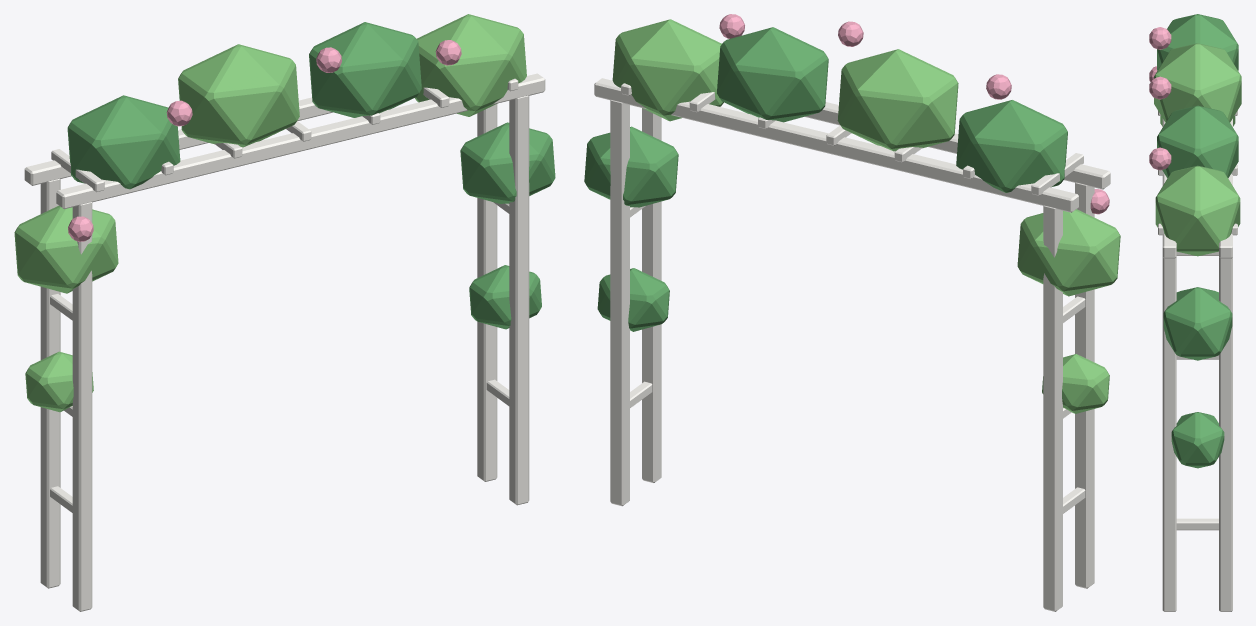
3 views of the same model, side by side, from view 1: azimuth 30°, elevation 25°; view 2: azimuth 150°, elevation 25°; view 3: azimuth 270°, elevation 25° (orthographic). The views are drawn at different scales.
Visible parts, largest first — view 1: Arch; view 2: Arch; view 3: Arch.
Boxes of the visible parts, x1,y1,x2,y2 form: Arch: (14,14,555,611); Arch: (584,14,1120,611); Arch: (1149,14,1241,611).
Size of the model in its own units: 2.32 by 2.12 by 0.3936.
